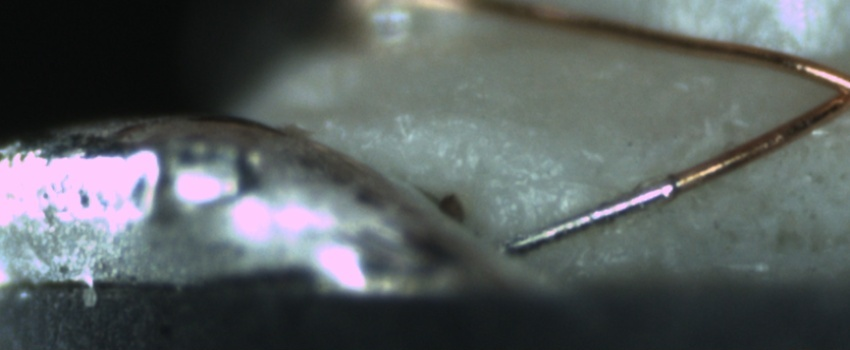CL: (804, 59, 850, 121)
TS: (499, 174, 679, 255)
